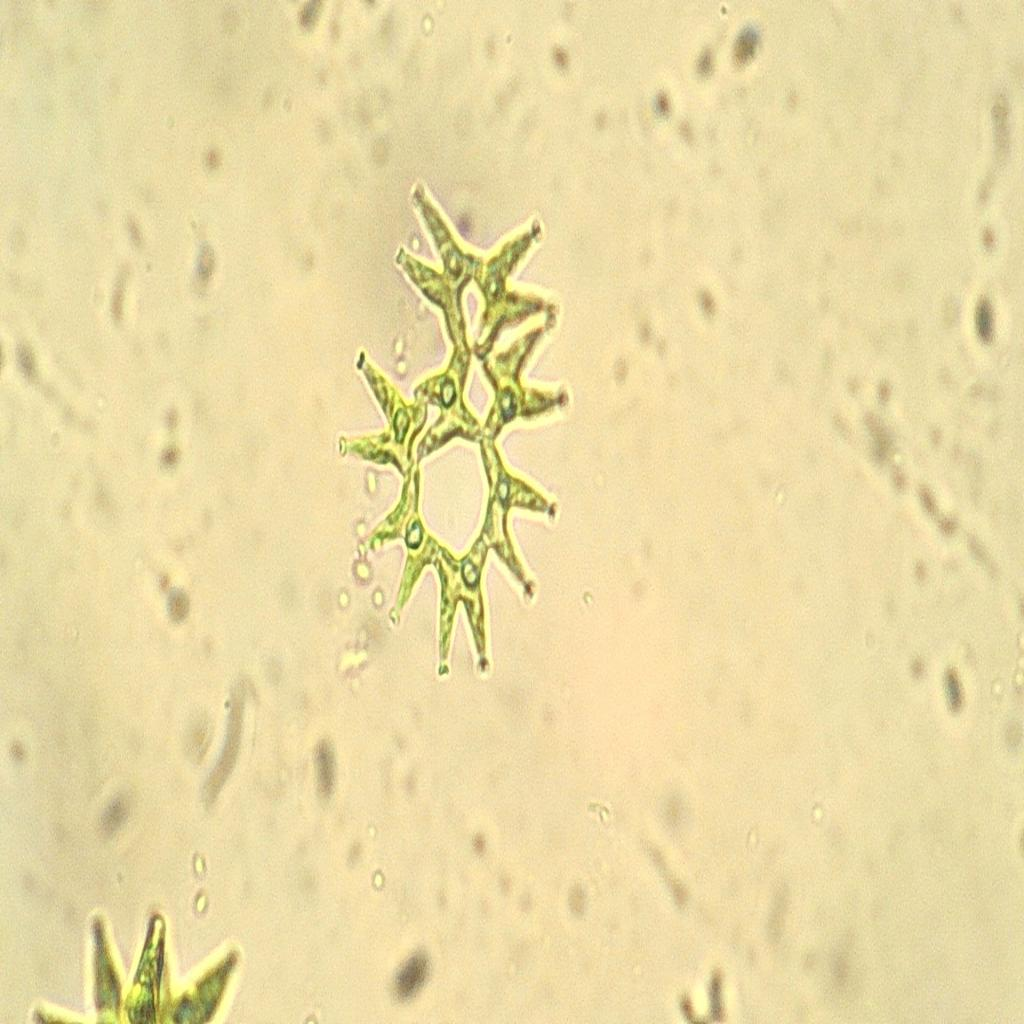Pediastrum_1TH: (323, 144, 587, 699)
